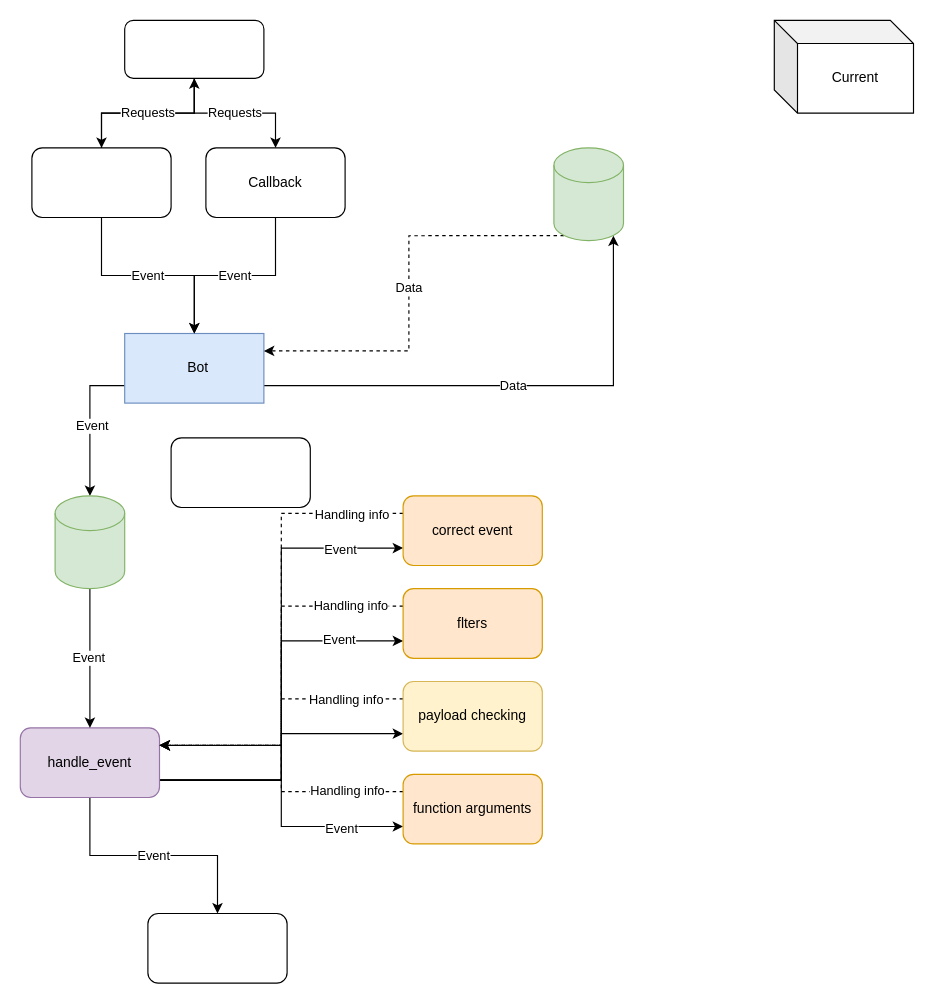
The diagram is 934 pixels wide and 1003 high, and some of its shapes have lost their labels. The shapes that lost their labels are listed below. From the top down, each one's centre as x and y in pixels, then its label:
the point at 194,48: VK
the point at 101,182: LongPoll
the point at 588,194: SignalHandlers
the point at 89,542: EventHandlers
